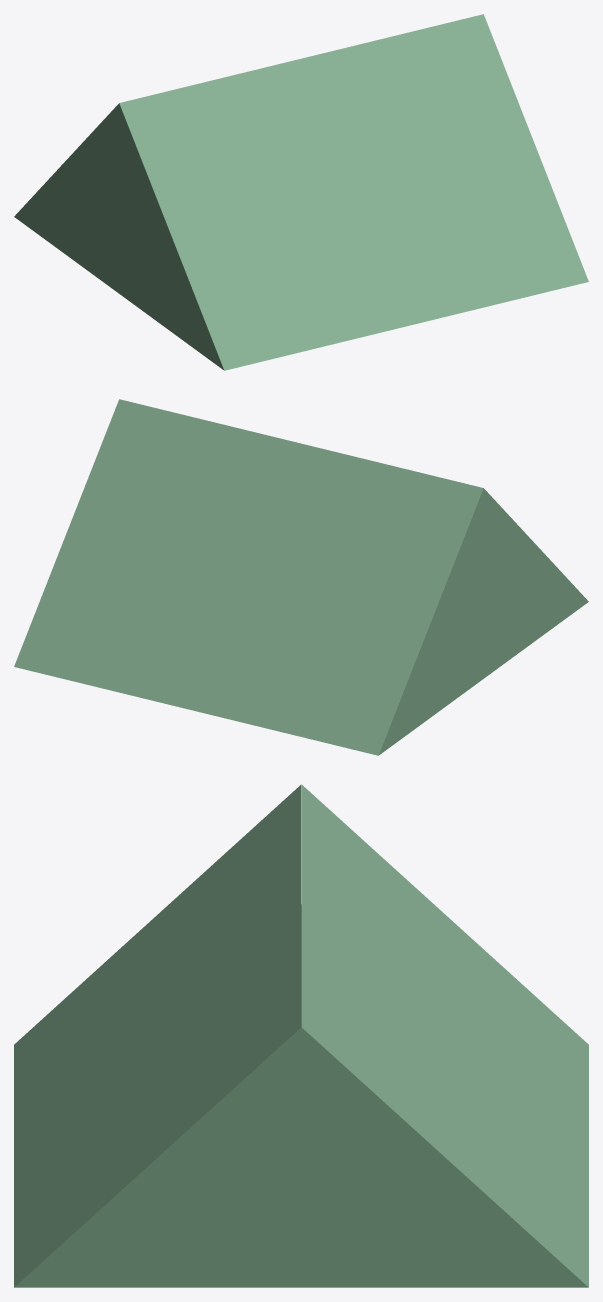
The model's file is kit_roof_pitched_green.glb.
The picture shows the model from 3 angles, top to bottom: view 1: azimuth 30°, elevation 25°; view 2: azimuth 150°, elevation 25°; view 3: azimuth 270°, elevation 25°; orthographic projection. The views are drawn at different scales.
Visible parts, largest first — view 1: kit_roof_pitched_green-col; view 2: kit_roof_pitched_green-col; view 3: kit_roof_pitched_green-col.
Part boxes in pixels (x1=…): kit_roof_pitched_green-col: x1=14, y1=14, x2=588, y2=370; kit_roof_pitched_green-col: x1=14, y1=399, x2=588, y2=755; kit_roof_pitched_green-col: x1=14, y1=784, x2=588, y2=1287.
Size of the model in its own units: 2 by 1 by 2.
